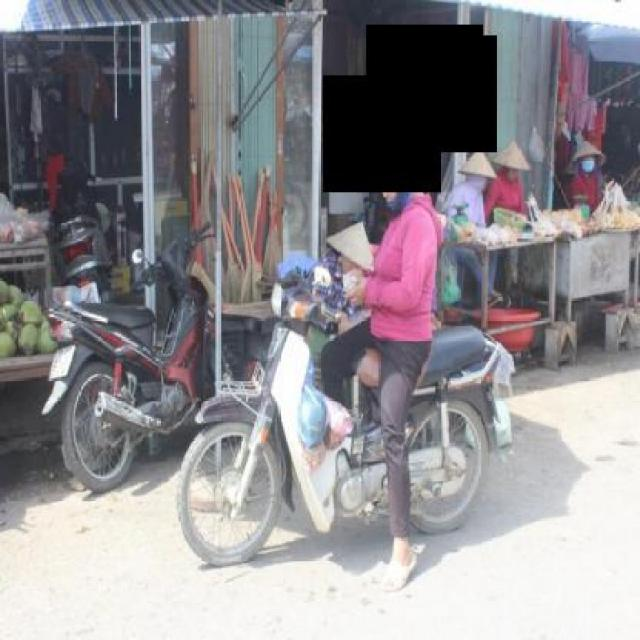plastic bag: (295, 366, 357, 466), (0, 192, 51, 245)
